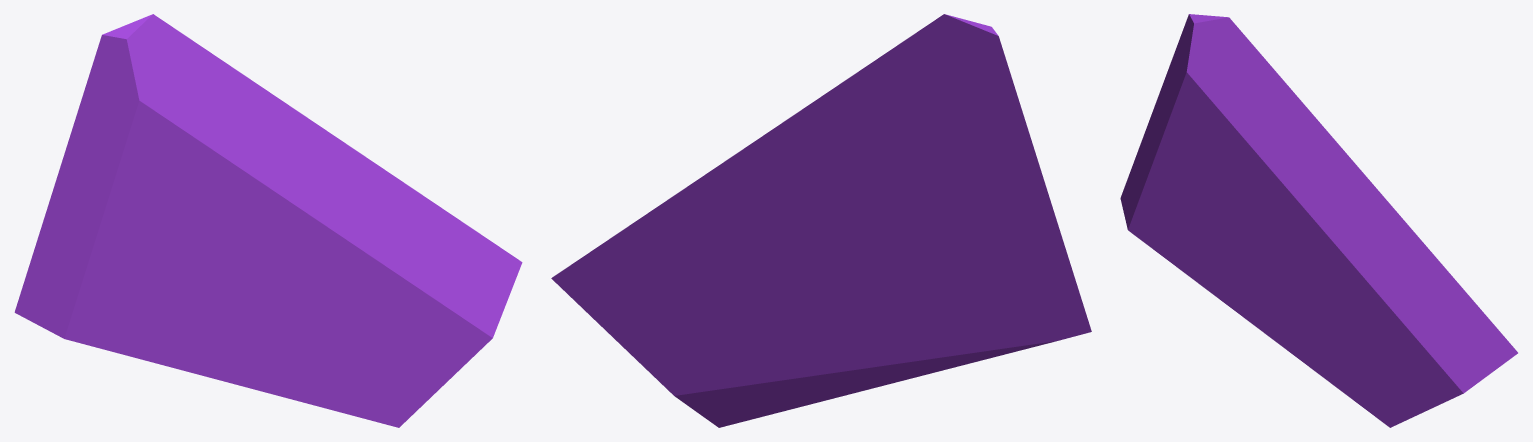
Rendered from Glass_97_4_chunks.fbx.
The picture shows the model from 3 angles, left to right: view 1: azimuth 30°, elevation 25°; view 2: azimuth 150°, elevation 25°; view 3: azimuth 330°, elevation 25°; orthographic projection. The views are drawn at different scales.
Parts seen in each view (by area): view 1: Glass_97_4_0; view 2: Glass_97_4_0; view 3: Glass_97_4_0.
Part boxes in pixels (x1,y1,x2,y2): Glass_97_4_0: (14,14,522,427); Glass_97_4_0: (551,14,1091,427); Glass_97_4_0: (1120,14,1517,427).
Bounding box in the file's own units: 395 × 338 × 27.2.
